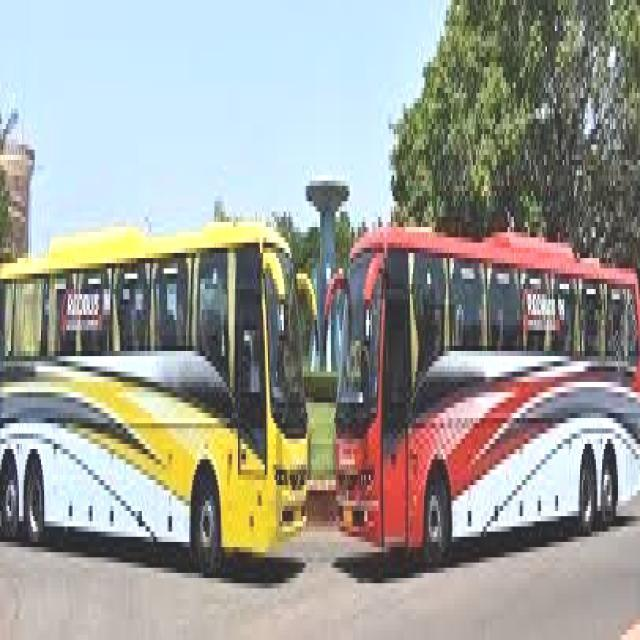Bus: (20, 179, 322, 606), (325, 184, 640, 573)
